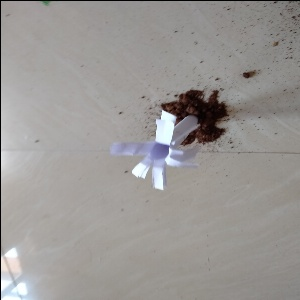weed: (116, 106, 214, 199)
